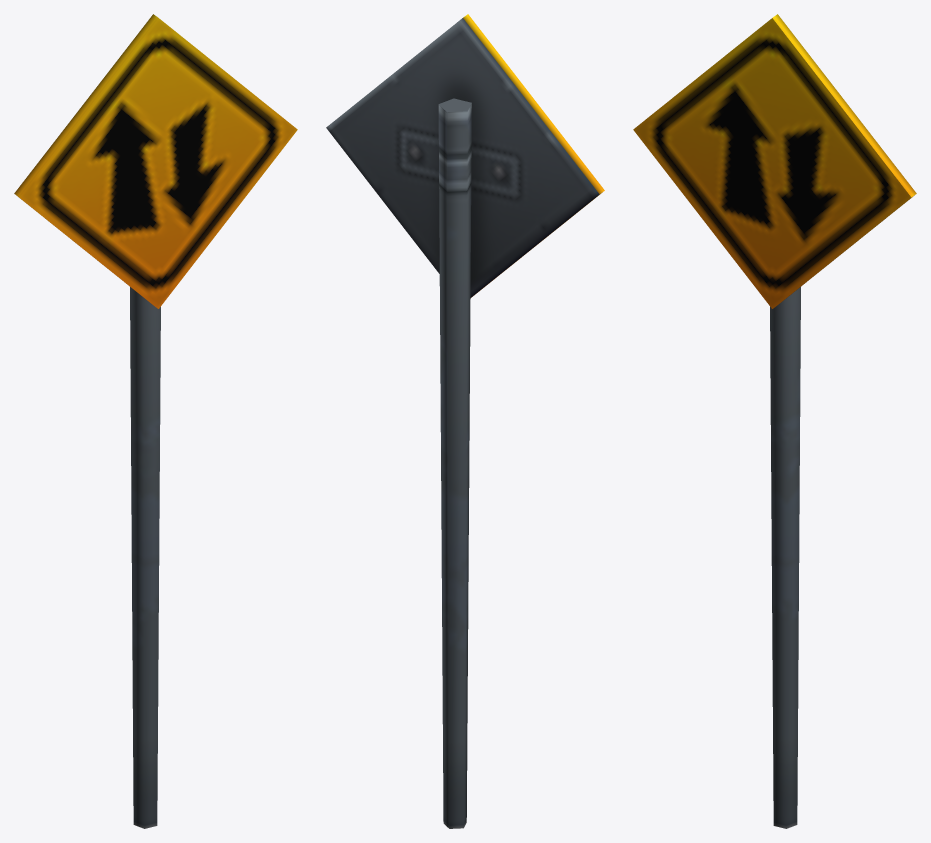
File: Signboard3.fbx
3 views of the same model, side by side, from view 1: azimuth 30°, elevation 25°; view 2: azimuth 150°, elevation 25°; view 3: azimuth 330°, elevation 25° (orthographic).
Parts seen in each view (by area): view 1: polySurface138; view 2: polySurface138; view 3: polySurface138.
Part boxes in pixels (left/top/right/bottom): polySurface138: left=14, top=14, right=297, bottom=828; polySurface138: left=326, top=14, right=604, bottom=828; polySurface138: left=633, top=14, right=916, bottom=828.
Size of the model in its own units: 1.35 by 3.78 by 0.1806.
1 material, 1 textured.
